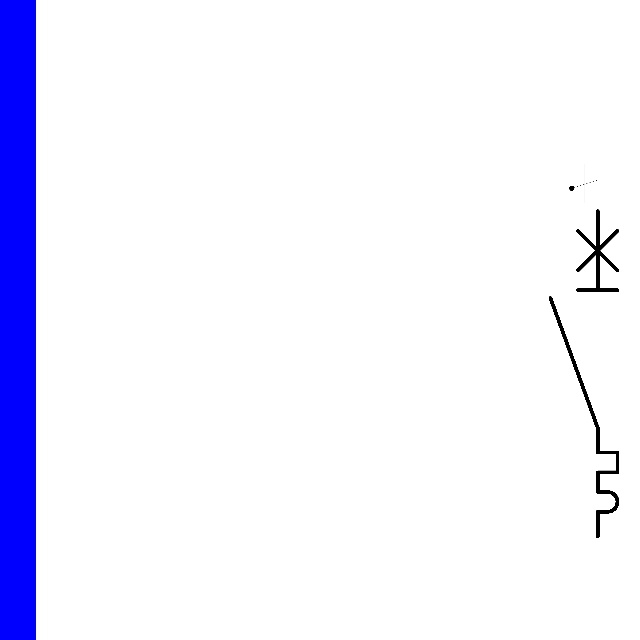interruptor_termomagnetico: (542, 202, 626, 544)
